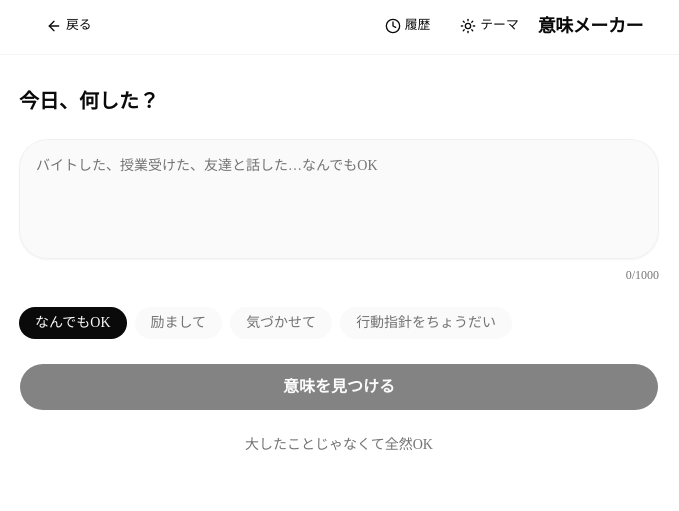
InputPage › should show server error on 500
Type "バイトした" into the text box named "今日やったこと" at coordinates (339, 199), box [19,139,659,259]
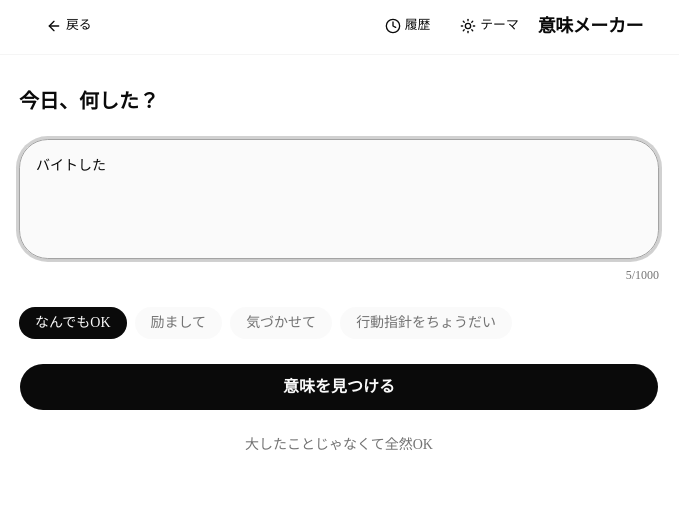
Click the button "意味を見つける" at coordinates (339, 387), box [19,363,659,411]
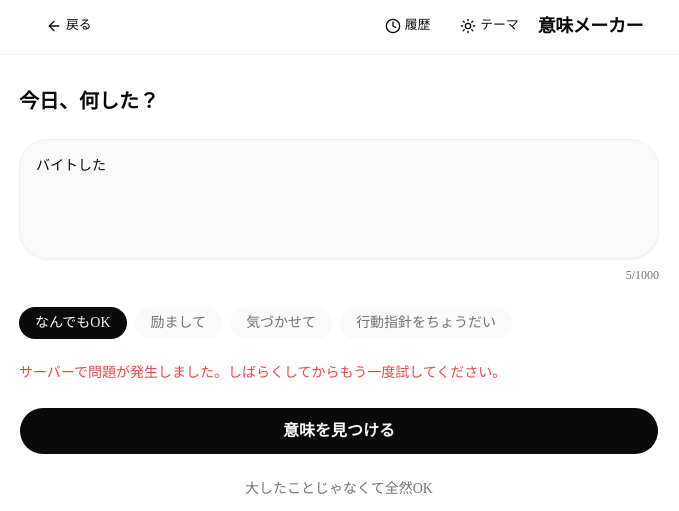
Now the message shows "サーバーで問題が発生しました", box [19,365,506,380]
